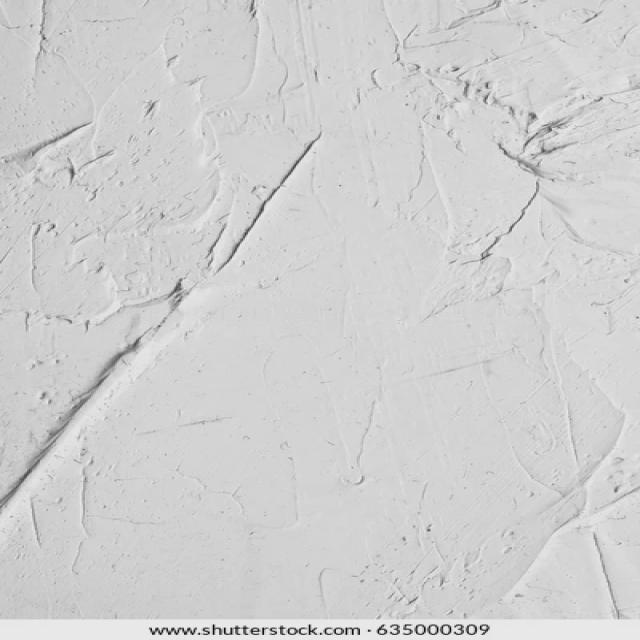rough and patchy surface: (0, 5, 640, 619)
